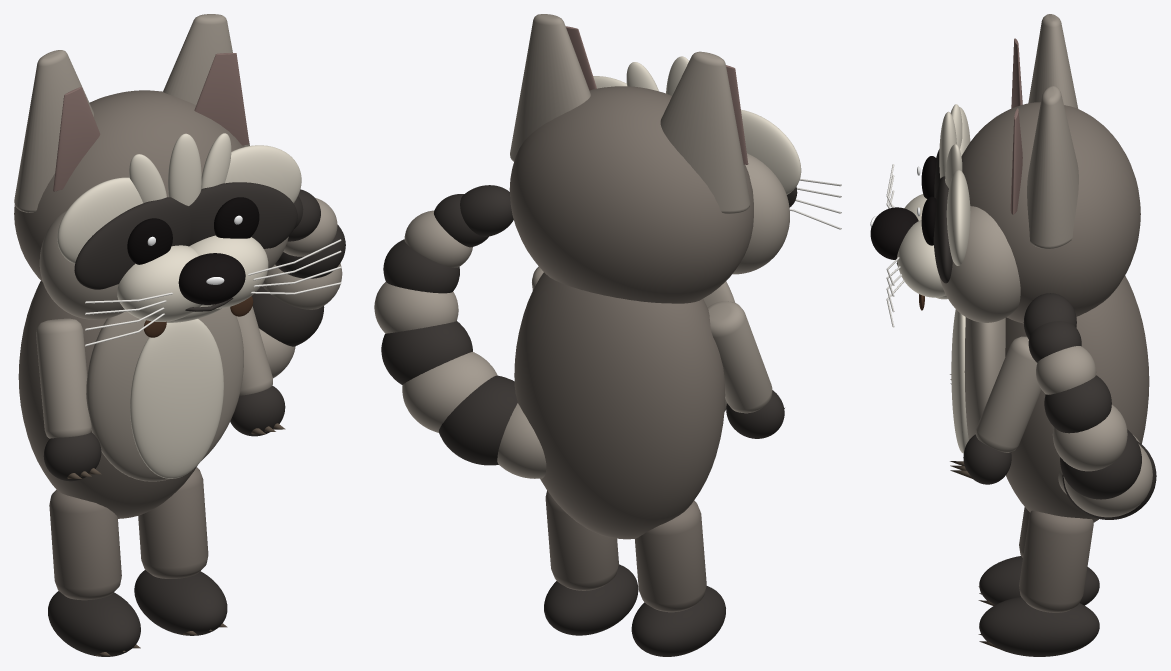
Rendered from Raccoon.fbx.
3 views of the same model, side by side, from view 1: azimuth 30°, elevation 25°; view 2: azimuth 150°, elevation 25°; view 3: azimuth 270°, elevation 25° (orthographic). The views are drawn at different scales.
Parts seen in each view (by area): view 1: Cream_Chest, Head, Chest_Ruff, Torso, Left_Leg, Left_Ear, Right_Leg, Left_Arm, Left_Eye_Mask, Right_Foot, Left_Foot, Right_Eye_Mask (+23 smaller); view 2: Torso, Head, Left_Ear, Right_Ear, Left_Leg, Left_Arm, Tail_Segment_02, Right_Leg, Right_Foot, Left_Foot, Tail_Segment_03, Tail_Segment_04 (+11 smaller); view 3: Head, Torso, Right_Ear, Right_Leg, Right_Cheek, Right_Foot, Right_Arm, Chest_Ruff, Tail_Segment_05, Tail_Segment_06, Left_Ear, Tail_Segment_04 (+18 smaller).
Part boxes in pixels (box(x1,y1,x2,y2)): Cream_Chest: box(130, 319, 223, 478); Head: box(14, 90, 244, 281); Chest_Ruff: box(86, 307, 243, 481); Torso: box(18, 281, 197, 518); Left_Leg: box(49, 490, 121, 600); Left_Ear: box(14, 50, 93, 212); Right_Leg: box(138, 467, 208, 578); Left_Arm: box(36, 318, 91, 438); Left_Eye_Mask: box(74, 197, 190, 289); Right_Foot: box(134, 570, 227, 635); Left_Foot: box(48, 591, 140, 656); Right_Eye_Mask: box(189, 182, 297, 248); Torso: box(514, 272, 725, 539); Head: box(509, 86, 753, 303); Left_Ear: box(660, 51, 750, 213); Right_Ear: box(510, 14, 590, 161); Left_Leg: box(635, 500, 706, 612); Left_Arm: box(707, 301, 772, 413); Tail_Segment_02: box(439, 375, 517, 465); Right_Leg: box(545, 490, 618, 590); Right_Foot: box(544, 564, 638, 635); Left_Foot: box(631, 586, 725, 656); Tail_Segment_03: box(402, 352, 497, 432); Tail_Segment_04: box(381, 321, 472, 384); Head: box(961, 102, 1140, 323); Torso: box(1005, 275, 1149, 522); Right_Ear: box(1027, 86, 1078, 248); Right_Leg: box(1019, 510, 1093, 612); Right_Cheek: box(939, 206, 1020, 322); Right_Foot: box(979, 596, 1099, 656); Right_Arm: box(975, 336, 1041, 452); Chest_Ruff: box(964, 317, 1005, 439); Tail_Segment_05: box(1052, 405, 1127, 471); Tail_Segment_06: box(1044, 375, 1111, 433); Left_Ear: box(1028, 14, 1078, 108); Tail_Segment_04: box(1060, 429, 1141, 499).
Size of what is drawn, in the model's own units: 327 by 529 by 237.
